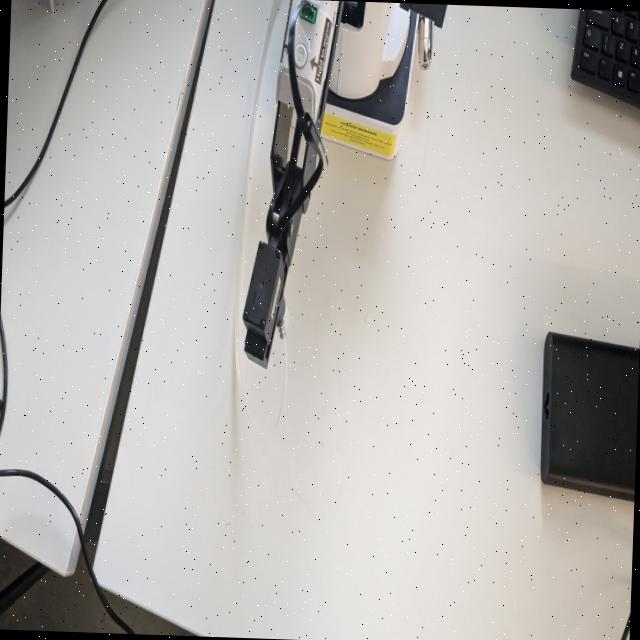Robot-end-effector-HF8z: (232, 237, 295, 372)
